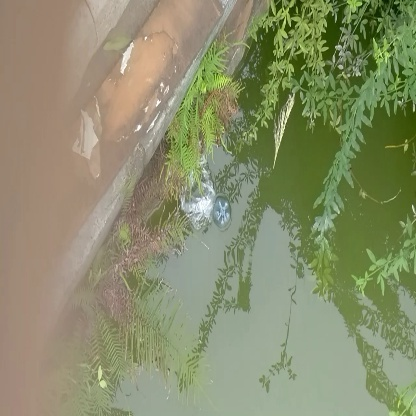bottle: (215, 196, 236, 228)
plastic-bag: (182, 159, 214, 234)
